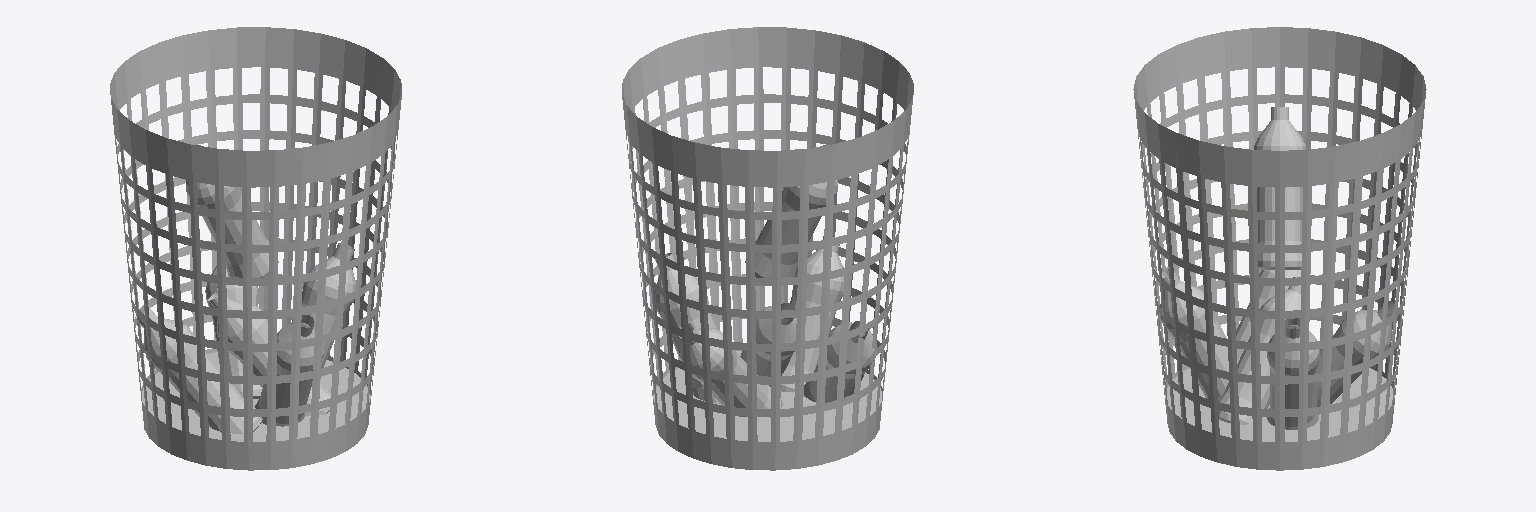
Rendered from DustbinWithCan_000027.obj.
3 renders of one model, left to right at view 1: azimuth 30°, elevation 25°; view 2: azimuth 150°, elevation 25°; view 3: azimuth 270°, elevation 25°, orthographic.
Parts seen in each view (by area): view 1: Cylinder, Plane.005, Plane.006, Plane.001, Plane.003, Plane.004, Plane.002; view 2: Cylinder, Plane.006, Plane.001, Plane.002, Plane.005, Plane.003, Plane.004; view 3: Cylinder, Plane.006, Plane.001, Plane.004, Plane.003, Plane.002, Plane.005.
Boxes of the visible parts, x1,y1,x2,y2 form: Cylinder: [110, 27, 401, 470]; Plane.005: [135, 307, 262, 433]; Plane.006: [186, 145, 278, 277]; Plane.001: [255, 315, 323, 426]; Plane.003: [291, 243, 355, 368]; Plane.004: [208, 291, 330, 415]; Plane.002: [205, 266, 262, 398]; Cylinder: [622, 27, 913, 470]; Plane.006: [745, 145, 837, 277]; Plane.001: [770, 236, 843, 391]; Plane.002: [679, 323, 782, 416]; Plane.005: [804, 321, 876, 402]; Plane.003: [655, 253, 719, 403]; Plane.004: [740, 303, 796, 385]; Cylinder: [1133, 27, 1426, 470]; Plane.006: [1254, 107, 1305, 269]; Plane.001: [1160, 269, 1238, 399]; Plane.004: [1218, 277, 1300, 424]; Plane.003: [1267, 318, 1319, 429]; Plane.002: [1317, 301, 1394, 406]; Plane.005: [1236, 270, 1300, 359].
Bounding box in the file's own units: 2.6 × 3.27 × 2.6.